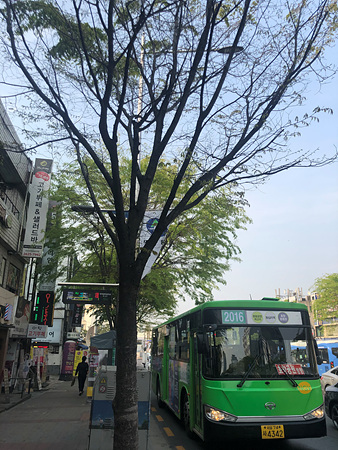bnum: (221, 309, 247, 323)
